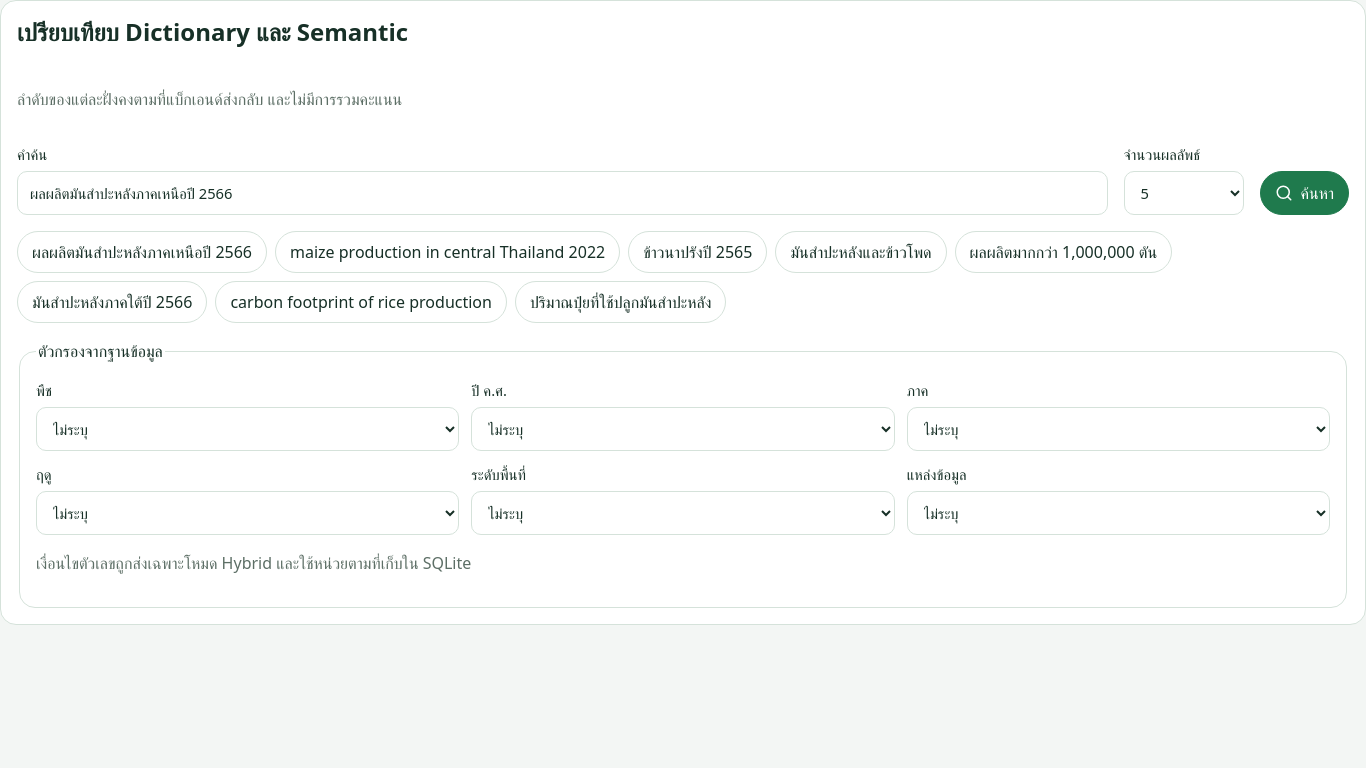
frontend › T15 keeps dictionary reasons separate from cosine scores
Click the button "ค้นหา": (1304, 193) [1260, 171, 1349, 215]
(page scrolled)
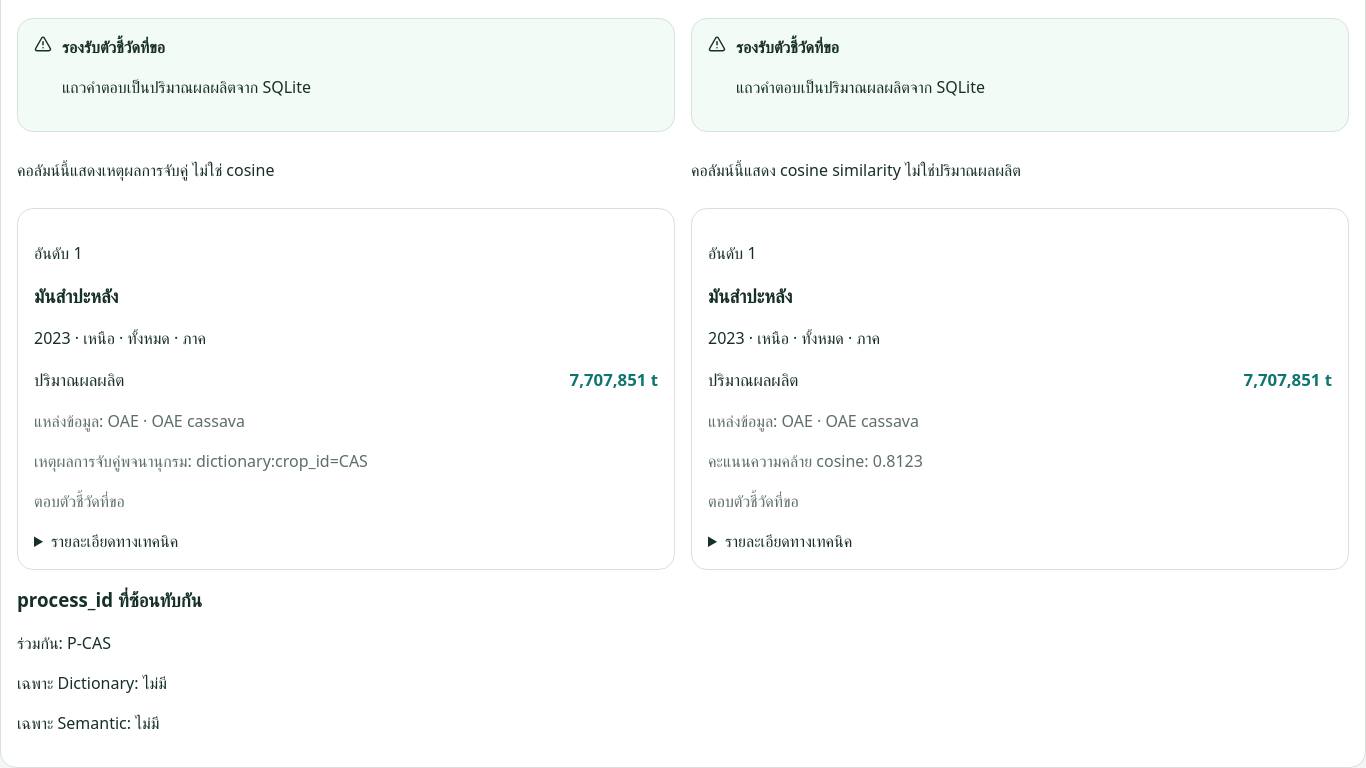
Check: the text "คอลัมน์นี้แสดงเหตุผลการจับคู่ ไม่ใช่ cosine" is shown, box [17, 159, 274, 181]
Check: the text "คอลัมน์นี้แสดง cosine similarity ไม่ใช่ปริมาณผลผลิต" is shown, box [691, 159, 1021, 181]
Check: the text "เหตุผลการจับคู่พจนานุกรม: dictionary:crop_id=CAS" is shown, box [34, 450, 368, 472]
